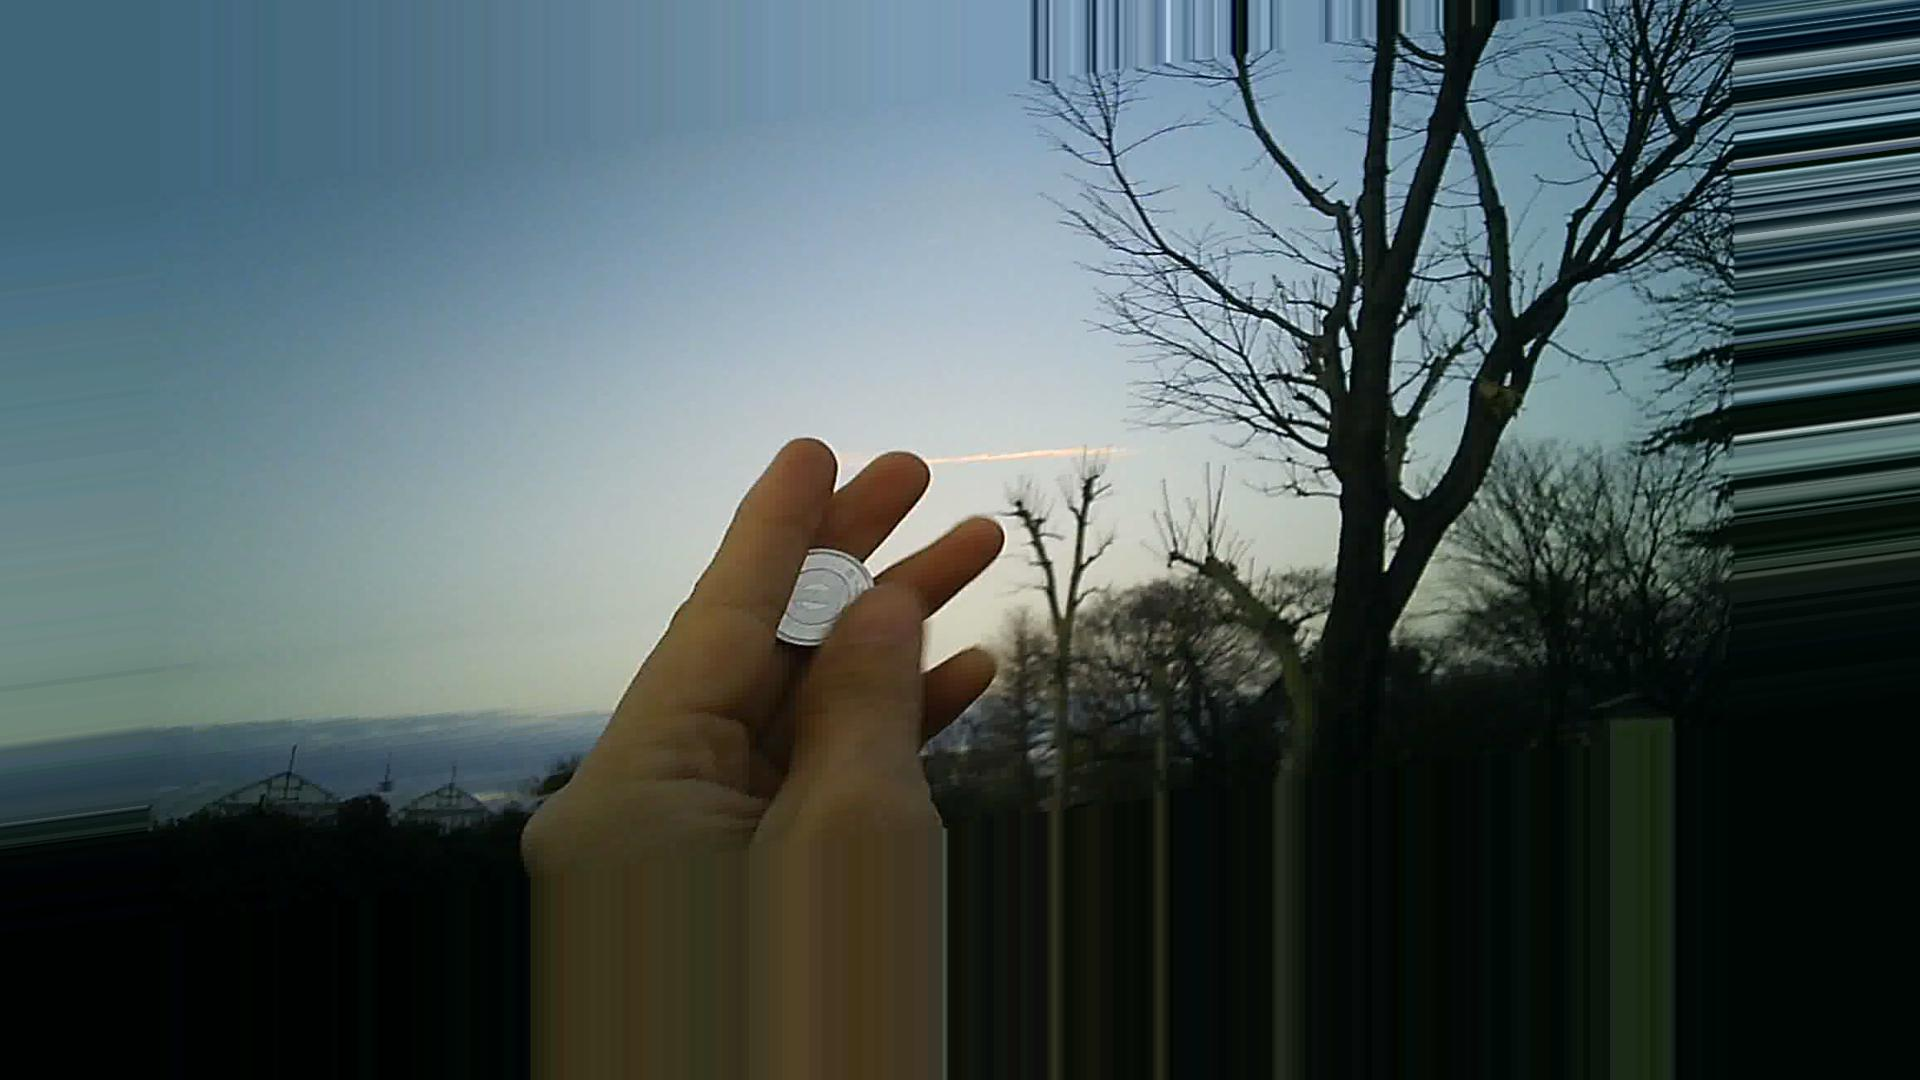1 Yen: (760, 530, 890, 663)
